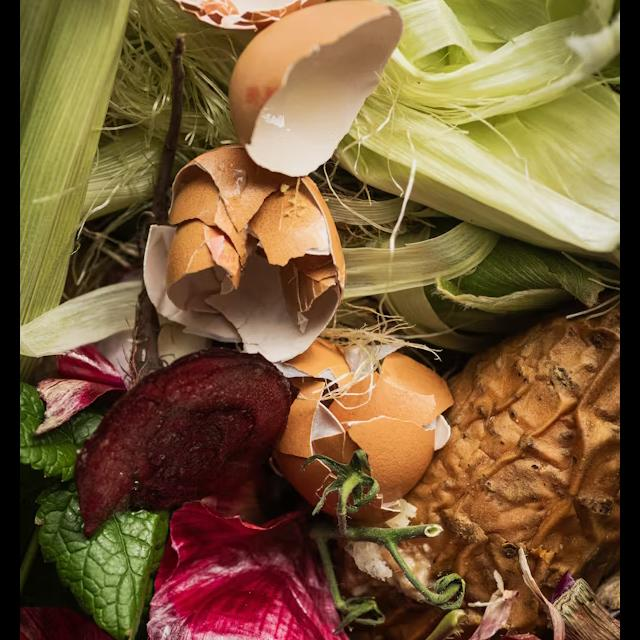food_waste: (377, 282, 620, 570), (356, 0, 619, 246), (30, 0, 193, 324), (133, 138, 377, 350), (220, 16, 440, 190), (270, 303, 448, 510), (20, 542, 380, 640), (72, 341, 289, 491), (113, 0, 342, 38), (373, 605, 598, 640)
